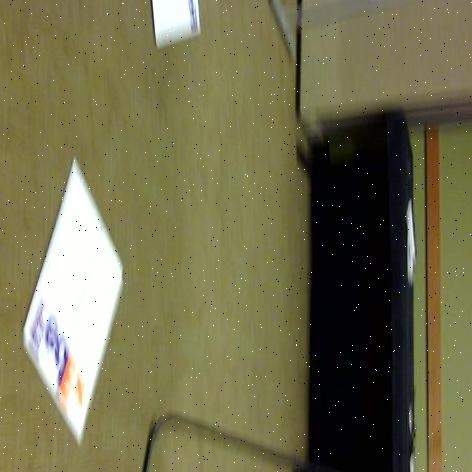Amazon: (0, 185, 134, 403)
